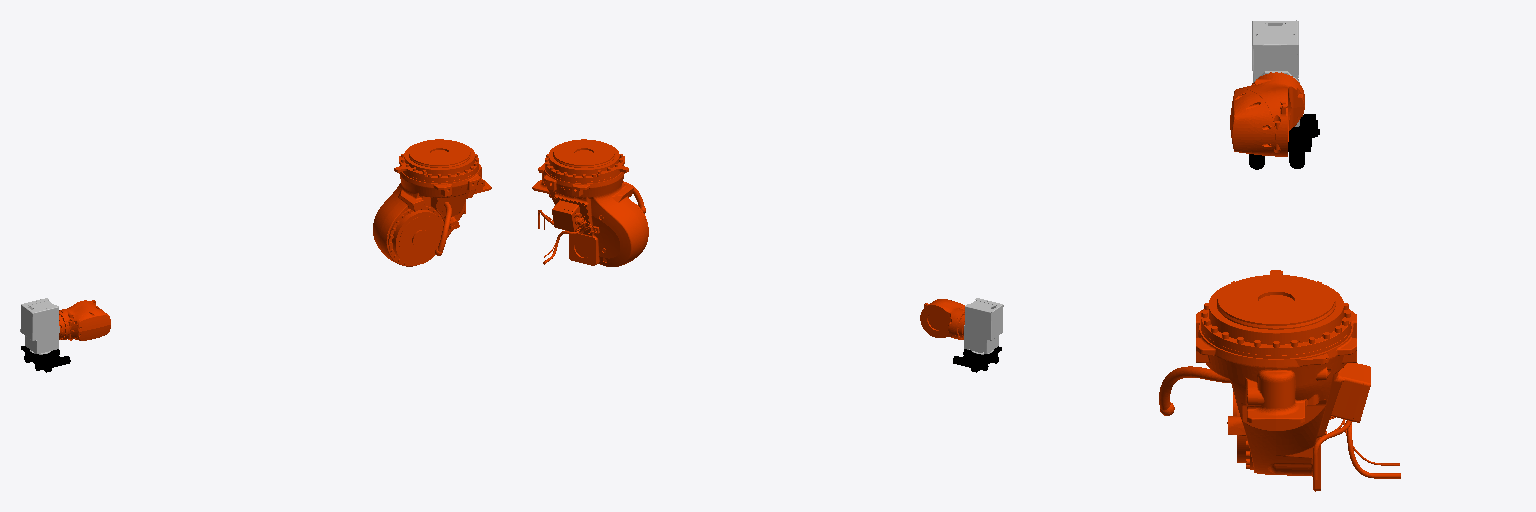
The robot description file, URDF, robot "kuka_arm_separate":
<?xml version="1.0"?>
<robot name="kuka_arm_separate"> <link name="kuka_arm_world">
    </link>
   
    <joint name="kuka1_joint" type="revolute">
        <origin rpy="0 0 0" xyz="0 0 -0.018"/>         <parent link="kuka_arm_world"/>              <child link="kuka1"/>
        <axis xyz="0 0 1"/>
        <limit effort="10" lower="-3.14" upper="+3.14" velocity="3.14"/>
    </joint>
    <link name="kuka1">
      <visual><geometry><mesh filename="../meshes/visual/kuka1.dae" /></geometry></visual>
      <collision><geometry><mesh filename="../meshes/collision/kuka1.stl" /></geometry></collision>
      <inertial><origin rpy="0 0 0" xyz="0 0 0"/><mass value="0.01"/><inertia ixx="0.002706437" ixy="0.000011205" ixz="-0.000008016" iyy="0.002153592" iyz="0.000141528" izz="0.002712272"/></inertial>
    </link>

    <joint name="kuka2_joint" type="revolute">
        <origin rpy="0 1.57 0" xyz="-0.0175 -0.01165 -0.0395"/>
        <parent link="kuka1"/>
        <child link="kuka2"/>
        <axis xyz="0 1 0"/>
        <limit effort="10" lower="-3.05" upper="1.05" velocity="3.14"/>
    </joint>
    <link name="kuka2">
      <visual><geometry><mesh filename="../meshes/visual/kuka2.dae" /></geometry></visual>
      <collision><geometry><mesh filename="../meshes/collision/kuka2.stl" /></geometry></collision>
      <inertial><origin rpy="0 0 0" xyz="0 0 0"/><mass value="0.01"/><inertia ixx="0.002706437" ixy="0.000011205" ixz="-0.000008016" iyy="0.002153592" iyz="0.000141528" izz="0.002712272"/></inertial>
    </link>

    <joint name="kuka3_joint" type="revolute">
        <origin rpy="0 -1.57 0" xyz="0 -0.0063 -0.089"/>
        <parent link="kuka2"/>
        <child link="kuka3"/>
        <axis xyz="0 1 0"/>
        <limit effort="10" lower="-1.04" upper="2.88" velocity="3.14"/>
    </joint>
    <link name="kuka3">
      <visual><geometry><mesh filename="../meshes/visual/kuka3.dae" /></geometry></visual>
      <collision><geometry><mesh filename="../meshes/collision/kuka3.stl" /></geometry></collision>
      <inertial><origin rpy="0 0 0" xyz="0 0 0"/><mass value="0.01"/><inertia ixx="0.002706437" ixy="0.000011205" ixz="-0.000008016" iyy="0.002153592" iyz="0.000141528" izz="0.002712272"/></inertial>
    </link>

    <joint name="kuka4_joint" type="revolute">
        <origin rpy="0 0 0" xyz="-0.034675 0.01795 -0.005"/>
        <parent link="kuka3"/>
        <child link="kuka4"/>
        <axis xyz="1 0 0"/>
        <limit effort="10" lower="-3.14" upper="3.14" velocity="3.14"/>
    </joint>
    <link name="kuka4">
      <visual><geometry><mesh filename="../meshes/visual/kuka4.dae" /></geometry></visual>
      <collision><geometry><mesh filename="../meshes/collision/kuka4.stl" /></geometry></collision>
      <inertial><origin rpy="0 0 0" xyz="0 0 0"/><mass value="0.01"/><inertia ixx="0.002706437" ixy="0.000011205" ixz="-0.000008016" iyy="0.002153592" iyz="0.000141528" izz="0.002712272"/></inertial>
    </link>

    <joint name="kuka5_joint" type="revolute">
        <origin rpy="0 0 0" xyz="-0.06882 0.0022 0"/>
        <parent link="kuka4"/>
        <child link="kuka5"/>
        <axis xyz="0 1 0"/>
    	<limit effort="10" lower="-2.18" upper="+2.18" velocity="3.14"/>
    </joint>
    <link name="kuka5">
      <visual><geometry><mesh filename="../meshes/visual/kuka5.dae" /></geometry></visual>
      <collision><geometry><mesh filename="../meshes/collision/kuka5.stl" /></geometry></collision>
      <inertial><origin rpy="0 0 0" xyz="0 0 0"/><mass value="0.01"/><inertia ixx="0.002706437" ixy="0.000011205" ixz="-0.000008016" iyy="0.002153592" iyz="0.000141528" izz="0.002712272"/></inertial>
    </link>

    <joint name="kuka6_joint" type="revolute">
        <origin rpy="0 0 0" xyz="-0.01545 -0.00216 0.00015"/>
        <parent link="kuka5"/>
        <child link="kuka6"/>
        <axis xyz="1 0 0"/>
        <limit effort="10" lower="-6.1" upper="6.1" velocity="3.14"/>
    </joint>
    <link name="kuka6">
      <visual><geometry><mesh filename="../meshes/visual/kuka6.dae" /></geometry></visual>
      <collision><geometry><mesh filename="../meshes/collision/kuka6.stl" /></geometry></collision>
      <inertial><origin rpy="0 0 0" xyz="0 0 0"/><mass value="0.01"/><inertia ixx="0.002706437" ixy="0.000011205" ixz="-0.000008016" iyy="0.002153592" iyz="0.000141528" izz="0.002712272"/></inertial>
    </link>
    
    <joint name="weaving_joint" type="fixed">
        <origin rpy="0 0 0" xyz="-0.003 0 0"/>
        <parent link="kuka6"/>
        <child link="weaving1"/>
    </joint>
    <link name="weaving1">
      <visual><geometry><mesh filename="../meshes/visual/weaving1.dae" /></geometry></visual>
      <collision><geometry><mesh filename="../meshes/collision/weaving1.stl" /></geometry></collision>
      <inertial><origin rpy="0 0 0" xyz="0 0 0"/><mass value="0.01"/><inertia ixx="0.002706437" ixy="0.000011205" ixz="-0.000008016" iyy="0.002153592" iyz="0.000141528" izz="0.002712272"/></inertial>
    </link>

    <joint name="weaving1_joint" type="fixed">
        <origin rpy="0 0 0" xyz="-0.0075 0.00016 -0.013032"/>
        <parent link="weaving1"/>
        <child link="weaving2"/>
        <axis xyz="0 0 1"/>
        <limit effort="10" lower="-2.094" upper="2.094" velocity="3.14"/>
    </joint>
    <link name="weaving2">
      <visual><geometry><mesh filename="../meshes/visual/weaving2.dae" /></geometry></visual>
      <collision><geometry><mesh filename="../meshes/collision/weaving2.stl" /></geometry></collision>
      <inertial><origin rpy="0 0 0" xyz="0 0 0"/><mass value="0.01"/><inertia ixx="0.002706437" ixy="0.000011205" ixz="-0.000008016" iyy="0.002153592" iyz="0.000141528" izz="0.002712272"/></inertial>
    </link>

    <joint name="ee_joint" type="fixed">
        <origin rpy="0 0 0" xyz="-0.001 -0.001 -0.005"/>
        <parent link="weaving2"/>
        <child link="ee"/>
    </joint>
    <link name="ee">
    </link>

</robot>

--- What the picture shows (computed from the rendered views, not written in the file) ---
Views: 3 orthographic renders of the robot side by side, from view 1: azimuth 30°, elevation 25°; view 2: azimuth 150°, elevation 25°; view 3: azimuth 270°, elevation 25°.
Model kuka_arm_separate with 10 links and 9 joints (6 revolute, 3 fixed), rooted at kuka_arm_world, posed all joints at 0.
Links seen in each view (by area): view 1: kuka1, weaving1, kuka5, weaving2; view 2: kuka1, weaving1, kuka5, weaving2; view 3: kuka1, kuka5, weaving1, weaving2.
Link boxes in pixels (x1,y1,x2,y2): kuka1: [373, 139, 491, 266]; weaving1: [20, 298, 59, 354]; kuka5: [59, 300, 110, 340]; weaving2: [21, 346, 70, 372]; kuka1: [532, 139, 648, 266]; weaving1: [964, 298, 1003, 354]; kuka5: [920, 299, 964, 339]; weaving2: [953, 346, 1001, 372]; kuka1: [1159, 270, 1400, 491]; kuka5: [1230, 72, 1304, 156]; weaving1: [1252, 20, 1299, 126]; weaving2: [1249, 114, 1319, 169].
Size in the robot's own frame: 0.2717 by 0.0651 by 0.0657 metres.
5 mesh visuals loaded from 8 distinct referenced files (5 Collada DAE); not drawn: 3 (reference not matched to a file when rendering).
